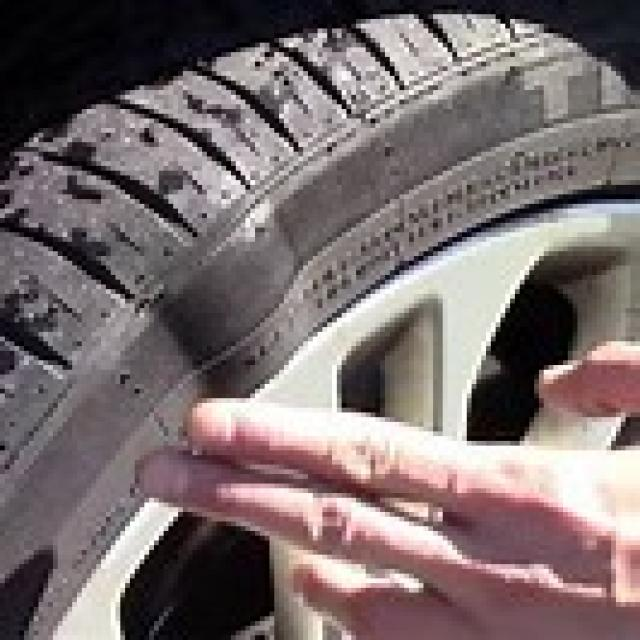Bulge: (145, 186, 327, 397)
